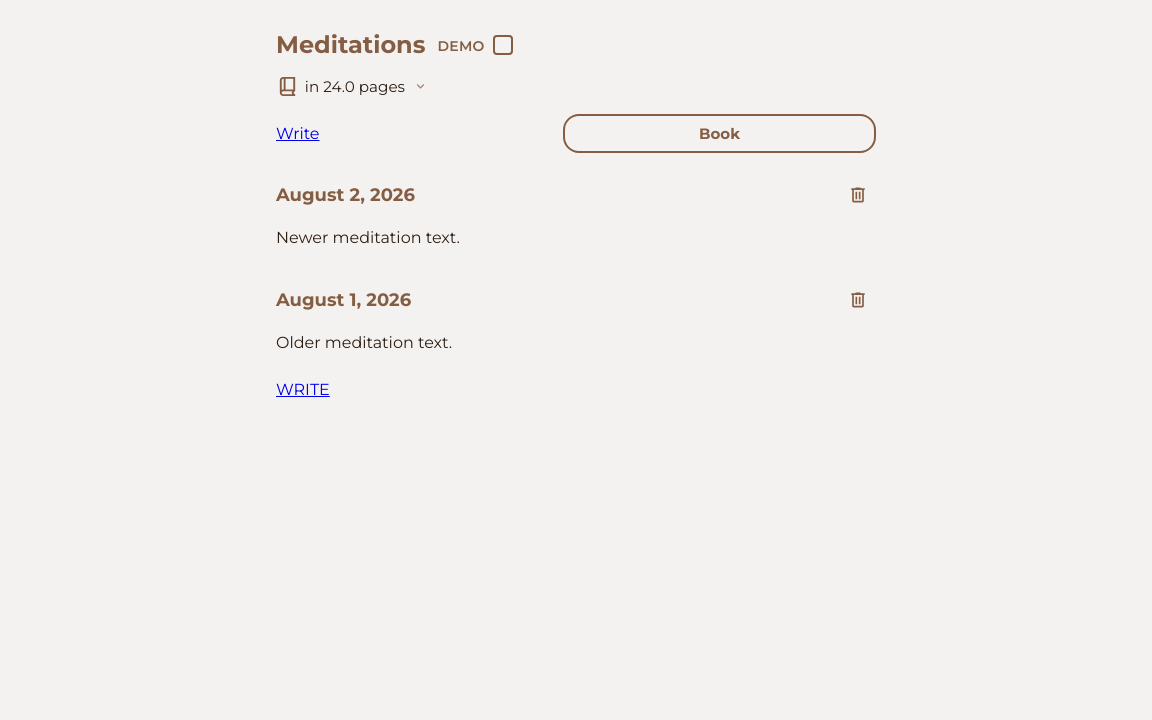
Test: JournalMeditations introduction › loads front matter for signed-in users and shows introduction in the Book modal
Expected: the element named "Meditations feed" is shown, top-left (276, 177), bottom-right (876, 356)
Click the button "Book".
click(720, 133)  # box top-left (563, 114), bottom-right (876, 153)
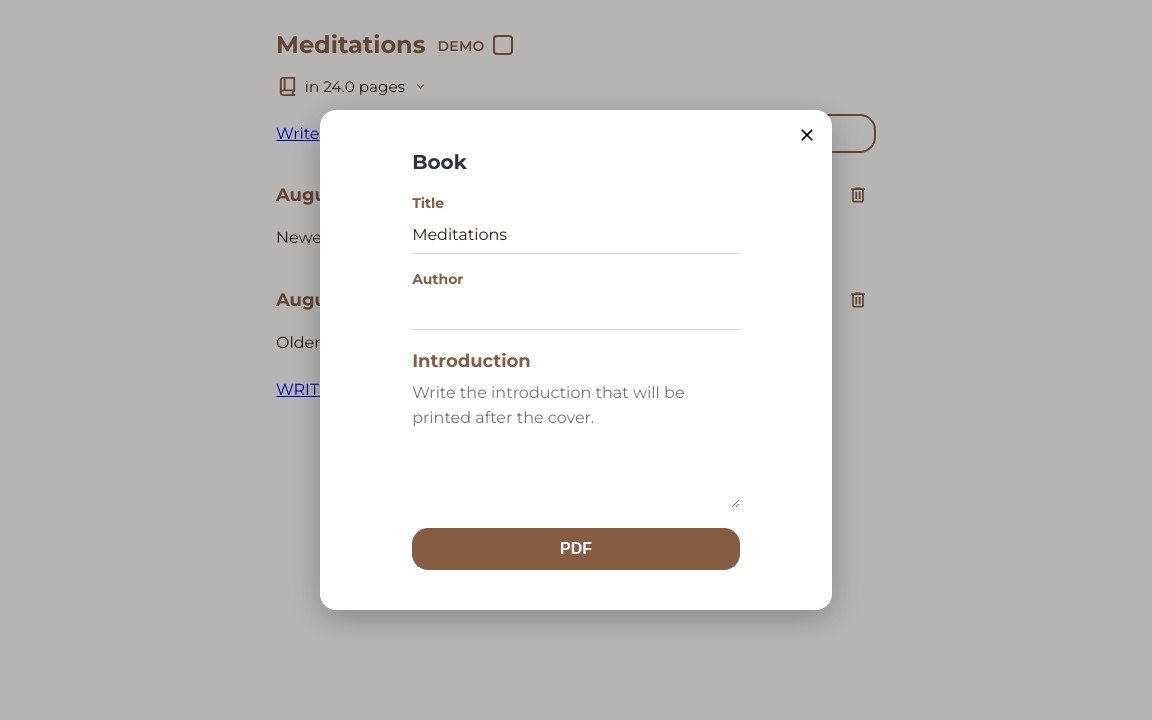
Now the text box labelled "introduction" is shown, box top-left (412, 380), bottom-right (740, 508)
